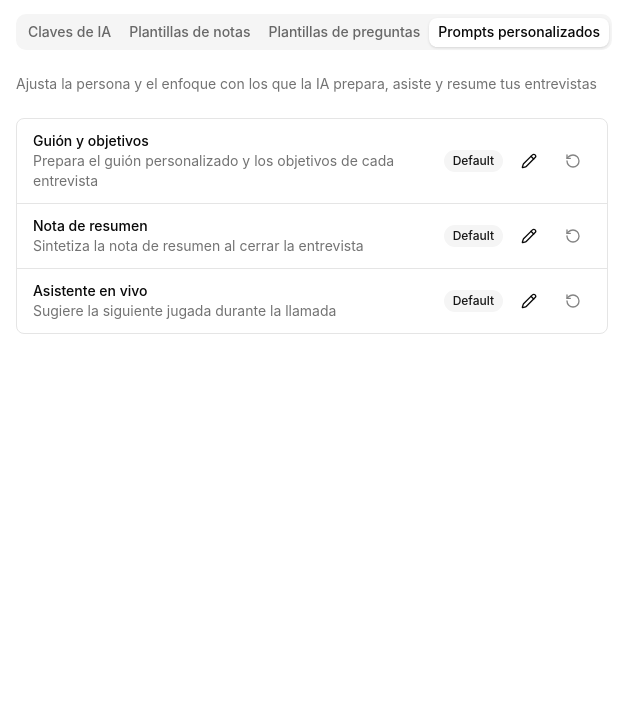
Test: CustomPromptItem › in-place editing › shows the Guardar and Descartar buttons only after the editor content changes
Step 1. Click the button named "Editar prompt" in the row of "Guión y objetivos" → (529, 161), box [511,143,547,179]
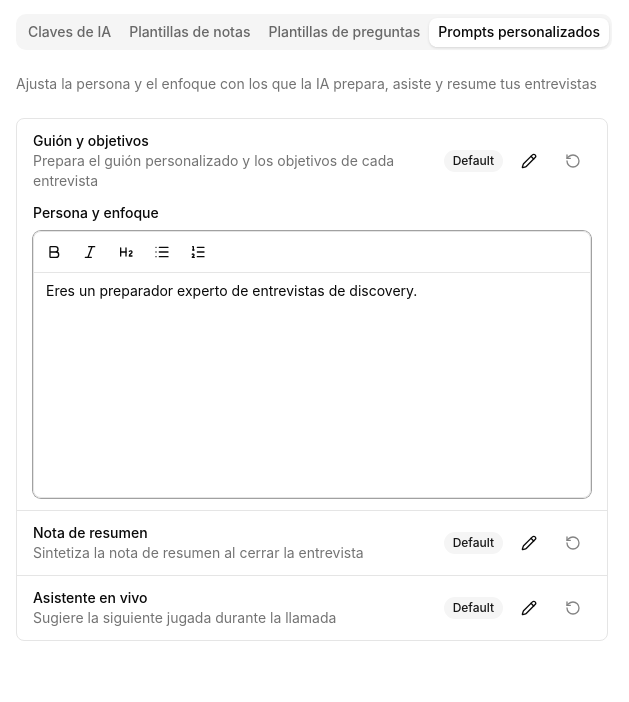
Step 2. Click the button named "Título" → (126, 252), box [110,236,142,268]
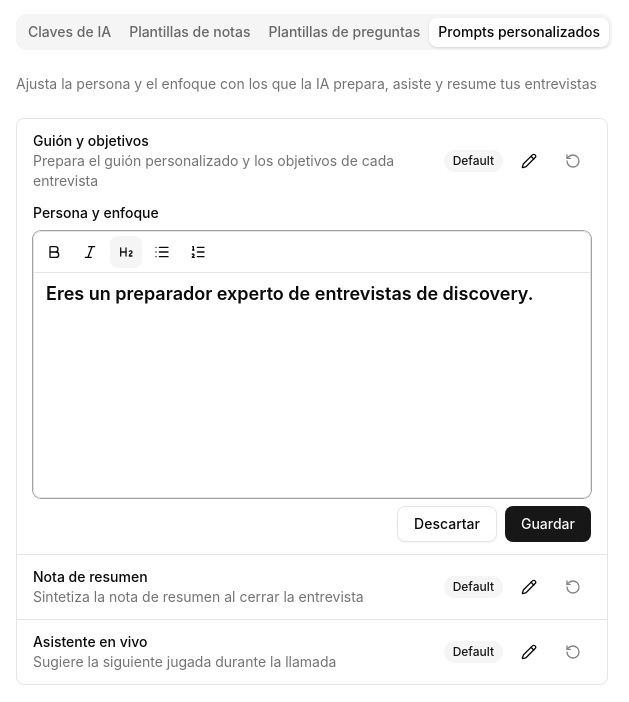
Result: the button "Guardar" is shown at [505,506,591,542]
Result: the button "Descartar" is shown at [397,506,497,542]
